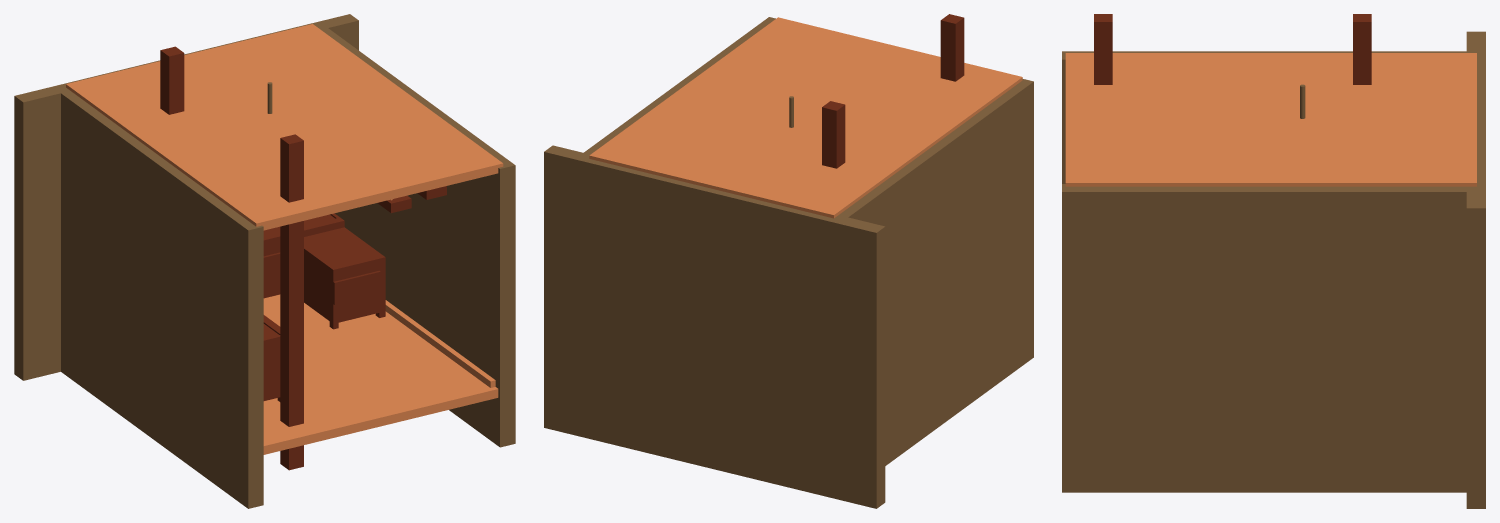
File: Room_Kikl.fbx
3 views of the same model, side by side, from view 1: azimuth 30°, elevation 25°; view 2: azimuth 150°, elevation 25°; view 3: azimuth 270°, elevation 25° (orthographic). The views are drawn at different scales.
Parts seen in each view (by area): view 1: Cube.001, Cube.008, Cube.002, Cube, Cube.003, Cube.009, Cube.011, Cube.010, Cube.005, Cube.004; view 2: Cube.003, Cube.008, Cube.001, Cube.011, Cube.010, Cube.002; view 3: Cube.002, Cube.008, Cube.003, Cube.010, Cube.011, Cube.001.
Boxes of the visible parts, <box> form: Cube.001: <box>61,91,263,508</box>; Cube.008: <box>66,24,503,230</box>; Cube.002: <box>321,28,515,447</box>; Cube: <box>263,294,498,454</box>; Cube.003: <box>14,14,358,380</box>; Cube.009: <box>263,213,385,329</box>; Cube.011: <box>280,134,303,470</box>; Cube.010: <box>160,46,184,114</box>; Cube.005: <box>263,315,280,401</box>; Cube.004: <box>385,300,495,387</box>; Cube.003: <box>544,145,885,508</box>; Cube.008: <box>589,17,1022,218</box>; Cube.001: <box>839,79,1033,465</box>; Cube.011: <box>940,14,964,81</box>; Cube.010: <box>822,101,845,168</box>; Cube.002: <box>583,17,775,154</box>; Cube.002: <box>1062,184,1466,492</box>; Cube.008: <box>1065,53,1476,186</box>; Cube.003: <box>1466,31,1485,508</box>; Cube.010: <box>1353,14,1371,84</box>; Cube.011: <box>1094,14,1112,84</box>; Cube.001: <box>1062,51,1466,183</box>.
Bounding box in the file's own units: 1159 × 1123 × 1175.
